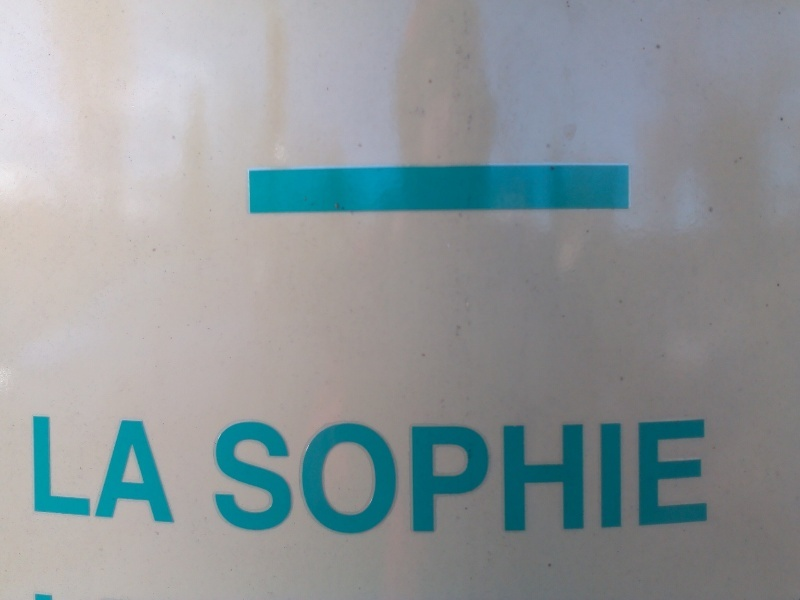text: (225, 417, 240, 538), (241, 417, 256, 538), (257, 417, 272, 538), (273, 417, 288, 538), (289, 417, 304, 538), (305, 417, 320, 538), (321, 417, 336, 538), (337, 417, 352, 538), (353, 417, 368, 538), (369, 417, 384, 538), (385, 417, 400, 538), (401, 417, 416, 538), (417, 417, 432, 538), (433, 417, 448, 538), (449, 417, 464, 538), (465, 417, 480, 538), (481, 417, 496, 538), (497, 417, 512, 538), (513, 417, 528, 538), (529, 417, 544, 538), (545, 417, 560, 538), (561, 417, 576, 538), (577, 417, 592, 538), (593, 417, 608, 538), (609, 417, 624, 538), (625, 417, 640, 538), (641, 417, 656, 538), (657, 417, 672, 538), (673, 417, 688, 538), (689, 417, 704, 538), (33, 413, 48, 525), (49, 413, 64, 525), (65, 413, 80, 525), (81, 413, 96, 525), (97, 413, 112, 525), (113, 413, 128, 525), (129, 413, 144, 525), (145, 413, 160, 525), (161, 413, 176, 525), (215, 417, 224, 538), (705, 417, 711, 538), (30, 413, 32, 525)
